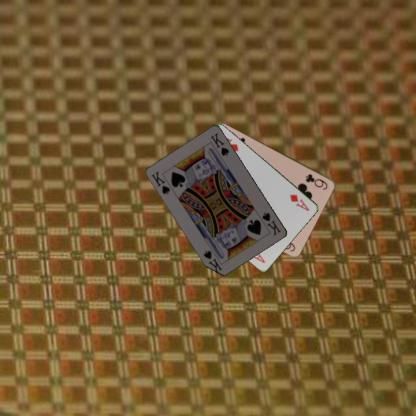6c: (302, 171, 330, 191)
Ad: (288, 192, 311, 212)
Ks: (259, 210, 282, 237), (149, 169, 172, 196)
